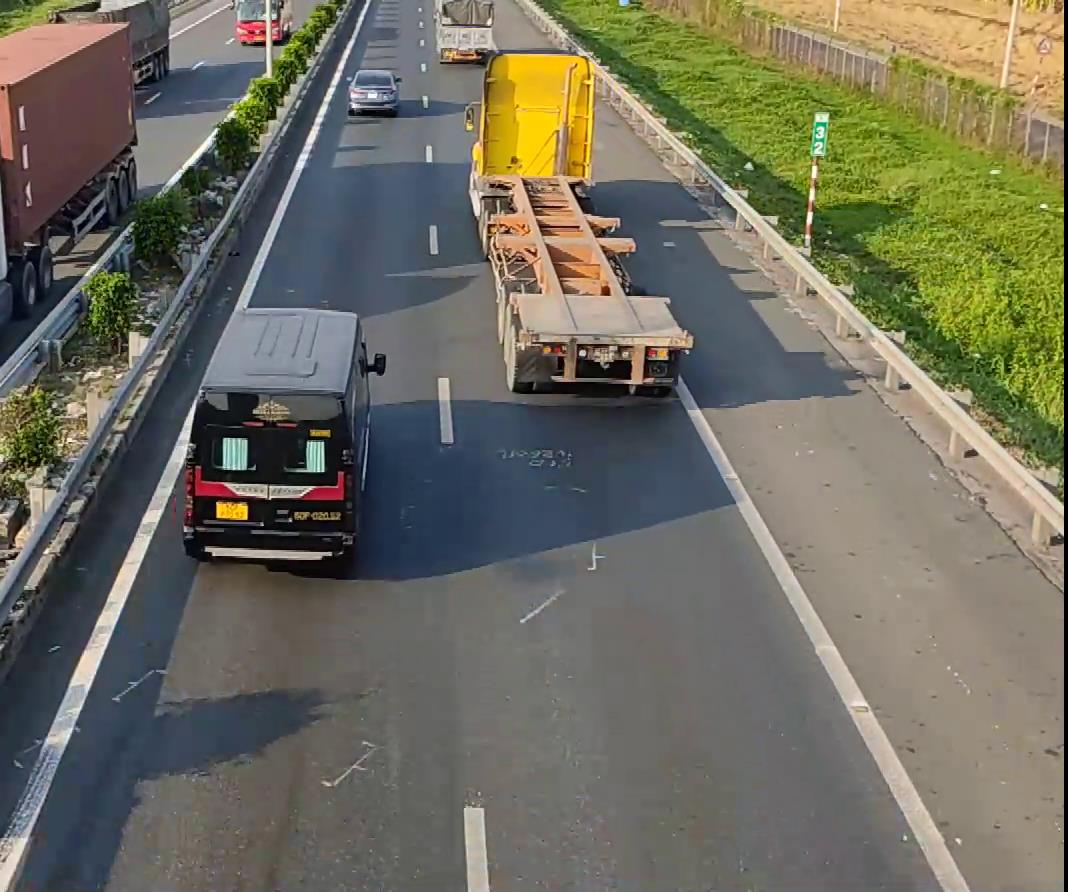car: (178, 306, 381, 568), (348, 64, 402, 120)
container: (466, 42, 695, 396), (0, 22, 141, 323)
truck: (432, 0, 497, 62)
